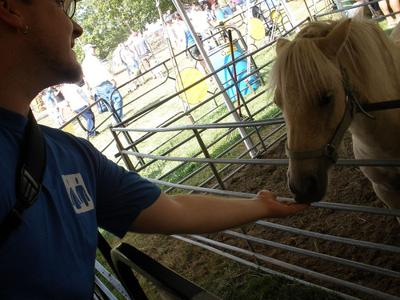person: (1, 1, 303, 300)
